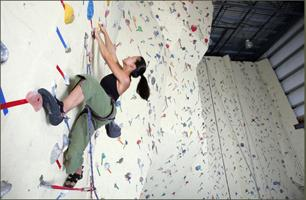person: (38, 22, 151, 188)
